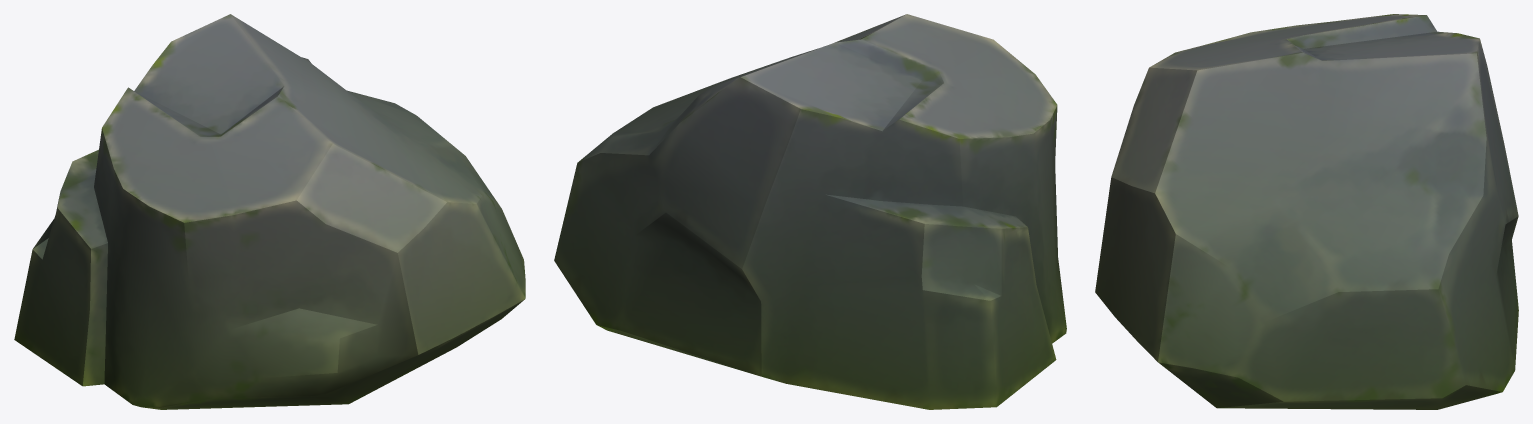
File: Rock_Medium_2.glb
3 views of the same model, side by side, from view 1: azimuth 30°, elevation 25°; view 2: azimuth 150°, elevation 25°; view 3: azimuth 270°, elevation 25° (orthographic). The views are drawn at different scales.
Visible parts, largest first — view 1: Rock_Medium_2; view 2: Rock_Medium_2; view 3: Rock_Medium_2.
Part boxes in pixels (x1,y1,x2,y2): Rock_Medium_2: (14,14,525,409); Rock_Medium_2: (554,14,1066,409); Rock_Medium_2: (1095,14,1518,409).
Bounding box in the file's own units: 3.05 × 1.9 × 2.48.
1 material, 1 textured.
